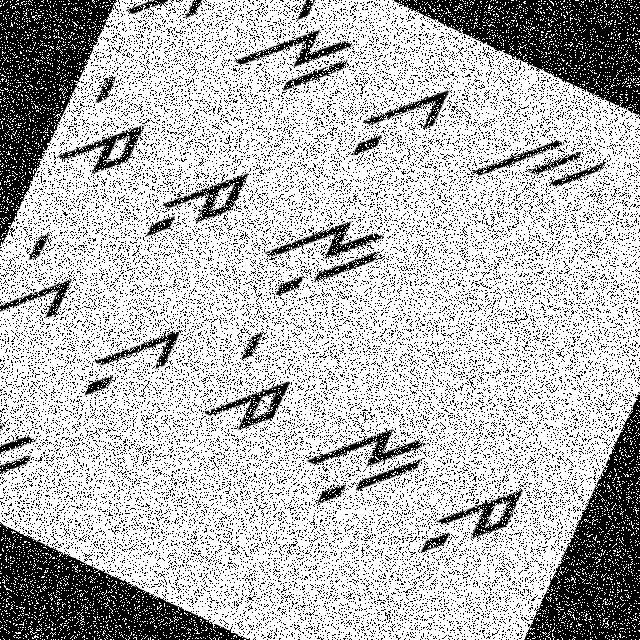ge: (0, 219, 93, 351), (122, 0, 236, 48)
gu: (66, 289, 194, 432), (339, 46, 464, 188)
nge: (221, 0, 376, 118), (0, 357, 61, 508)
ngu: (281, 386, 439, 542), (246, 185, 400, 336)
te: (195, 323, 311, 456), (50, 62, 165, 192)
tu: (413, 450, 538, 590), (138, 136, 260, 270)
